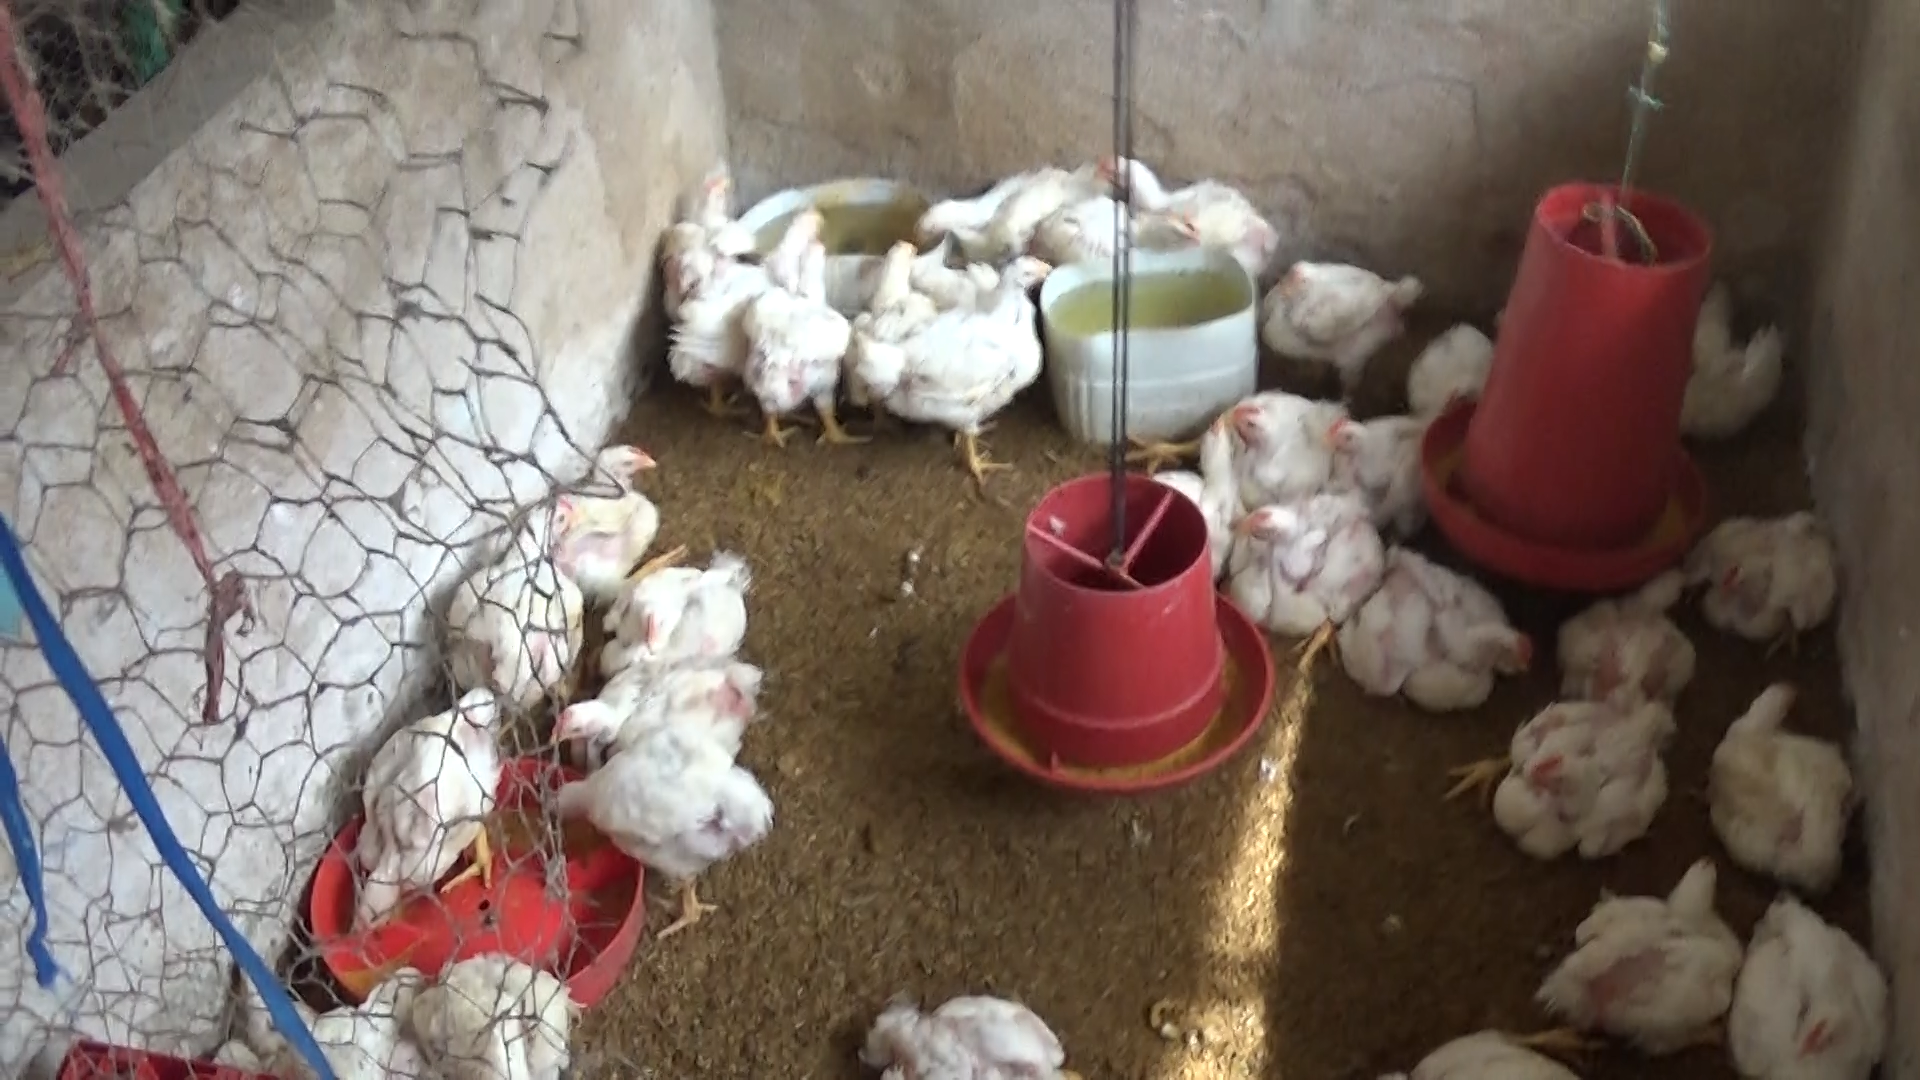Pollos: (331, 678, 514, 938), (1528, 858, 1749, 1048), (855, 248, 1062, 440), (1456, 694, 1683, 866), (539, 762, 779, 923), (1338, 538, 1540, 712), (665, 191, 825, 405), (1705, 680, 1859, 893), (442, 497, 576, 731), (1721, 891, 1886, 1080), (545, 653, 782, 773), (1549, 558, 1721, 708), (597, 531, 773, 676), (833, 977, 1077, 1080), (1687, 504, 1846, 655), (738, 236, 845, 443), (1230, 491, 1381, 636), (537, 422, 666, 588), (1665, 282, 1793, 447), (1263, 256, 1418, 382), (1095, 149, 1273, 258), (825, 233, 938, 396), (1211, 389, 1342, 508), (1323, 402, 1429, 531), (898, 167, 1067, 247)
